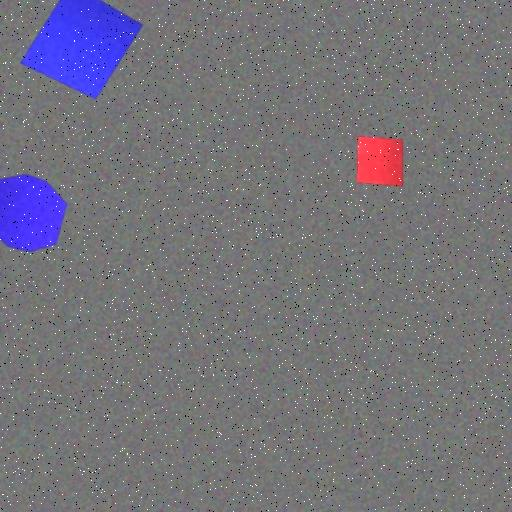BLUE_SQUARE: (19, 0, 144, 99)
RED_SQUARE: (357, 136, 403, 187)
